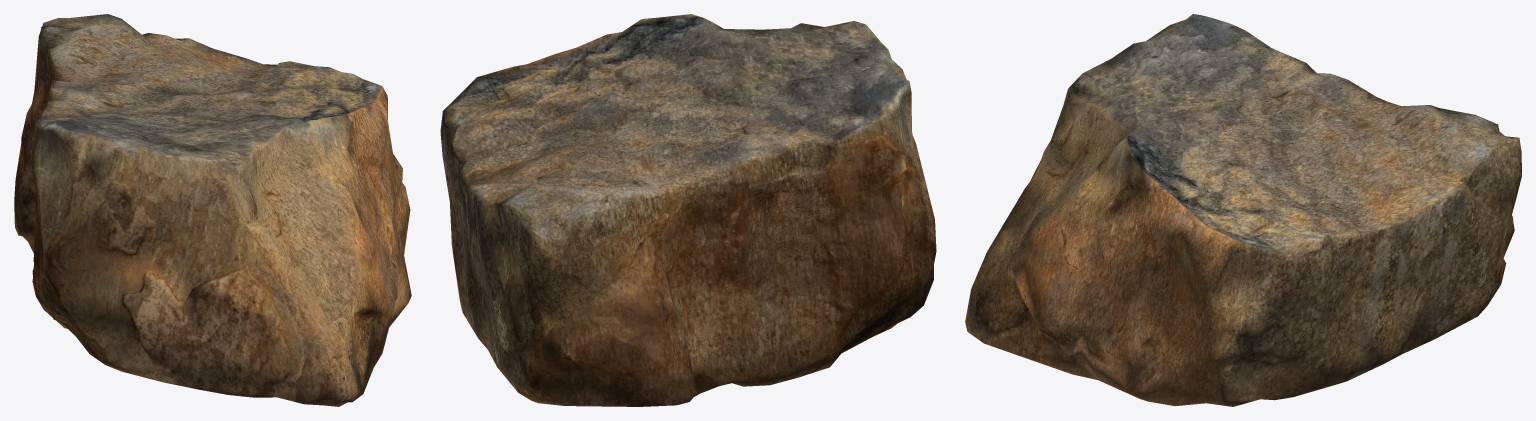
Rendered from boulder_b.glb.
The picture shows the model from 3 angles, left to right: view 1: azimuth 30°, elevation 25°; view 2: azimuth 150°, elevation 25°; view 3: azimuth 270°, elevation 25°; orthographic projection. The views are drawn at different scales.
Visible parts, largest first — view 1: boulder_03_LOD0; view 2: boulder_03_LOD0; view 3: boulder_03_LOD0.
Boxes of the visible parts, <box> form: boulder_03_LOD0: <box>14,14,411,406</box>; boulder_03_LOD0: <box>440,14,936,406</box>; boulder_03_LOD0: <box>965,14,1521,406</box>.
Bounding box in the file's own units: 2.4 × 1.47 × 3.06.
Materials: 1 (1 with a texture image).
